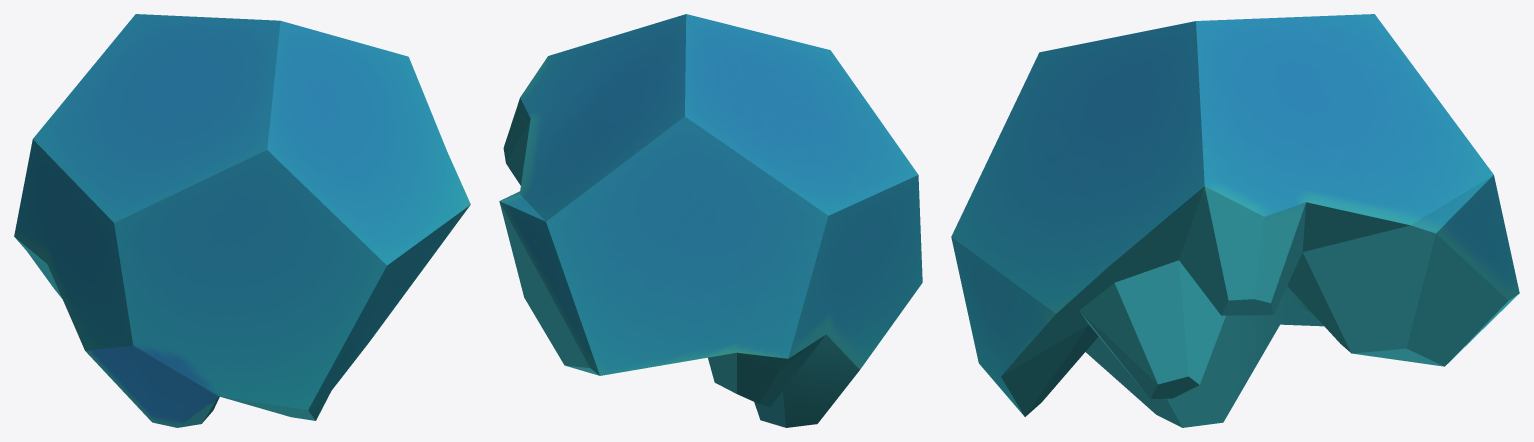
The model's file is p_mesh_quartz_part05.fbx.
3 views of the same model, side by side, from view 1: azimuth 30°, elevation 25°; view 2: azimuth 150°, elevation 25°; view 3: azimuth 270°, elevation 25° (orthographic). The views are drawn at different scales.
Visible parts, largest first — view 1: p_quartz_part05_lp; view 2: p_quartz_part05_lp; view 3: p_quartz_part05_lp.
Boxes of the visible parts, <box> form: p_quartz_part05_lp: <box>14,14,470,427</box>; p_quartz_part05_lp: <box>499,14,922,427</box>; p_quartz_part05_lp: <box>951,14,1519,427</box>.
Size of the model in its own units: 3.15 by 3.15 by 3.58.
